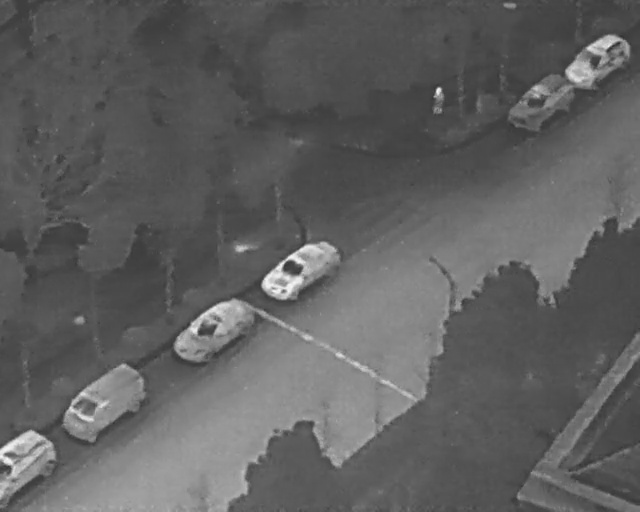Car: (51, 355, 157, 451), (163, 285, 262, 373), (258, 230, 347, 312), (500, 64, 582, 144), (560, 26, 633, 95), (0, 427, 56, 503)
Person: (434, 85, 445, 115)
